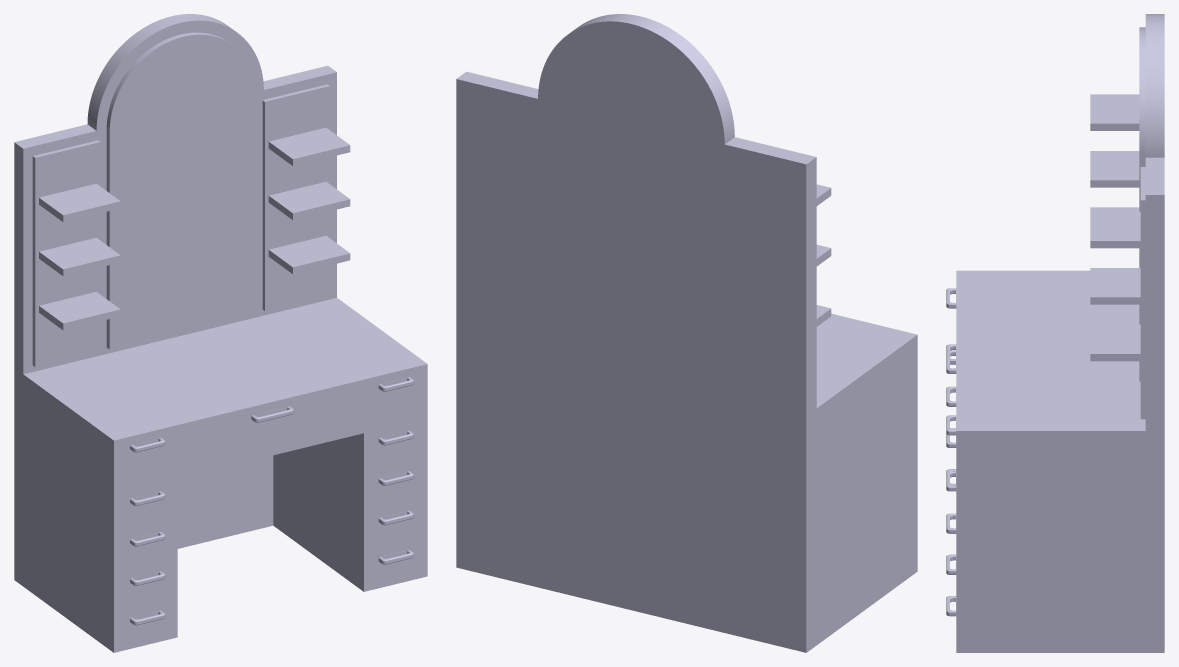
Rendered from dressing_table.gltf.
3 renders of one model, left to right at view 1: azimuth 30°, elevation 25°; view 2: azimuth 150°, elevation 25°; view 3: azimuth 270°, elevation 25°, orthographic. The views are drawn at different scales.
Parts seen in each view (by area): view 1: body_clone, glass_clone, handle_clone; view 2: body_clone; view 3: body_clone, handle_clone, glass_clone.
Boxes of the visible parts, box(x1,y1,x2,y2) form: body_clone: box(14, 14, 427, 652); glass_clone: box(109, 34, 256, 349); handle_clone: box(130, 377, 413, 625); body_clone: box(456, 14, 917, 652); body_clone: box(956, 14, 1164, 652); handle_clone: box(946, 288, 956, 616); glass_clone: box(1139, 27, 1140, 381).
Bounding box in the file's own units: 1.5 × 2.4 × 0.865.
